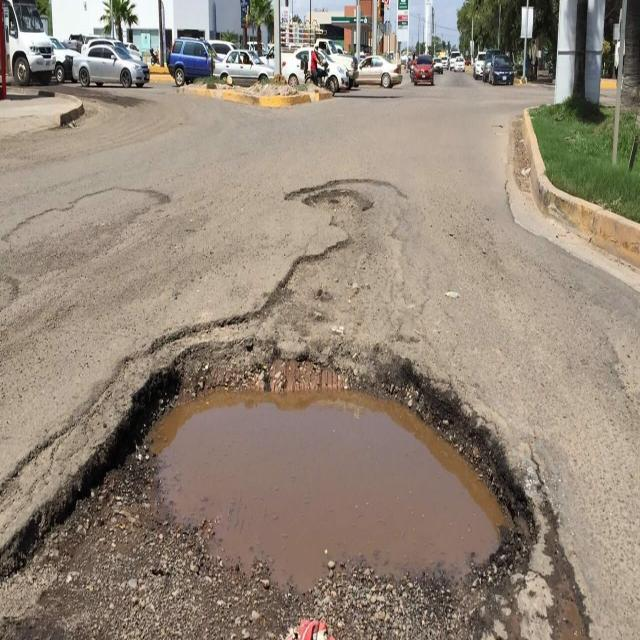Pothole: (55, 300, 563, 640)
